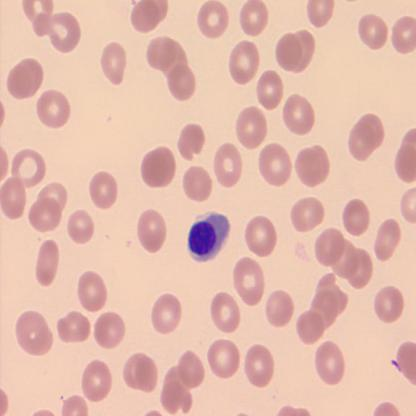NRC: (183, 209, 231, 266)
